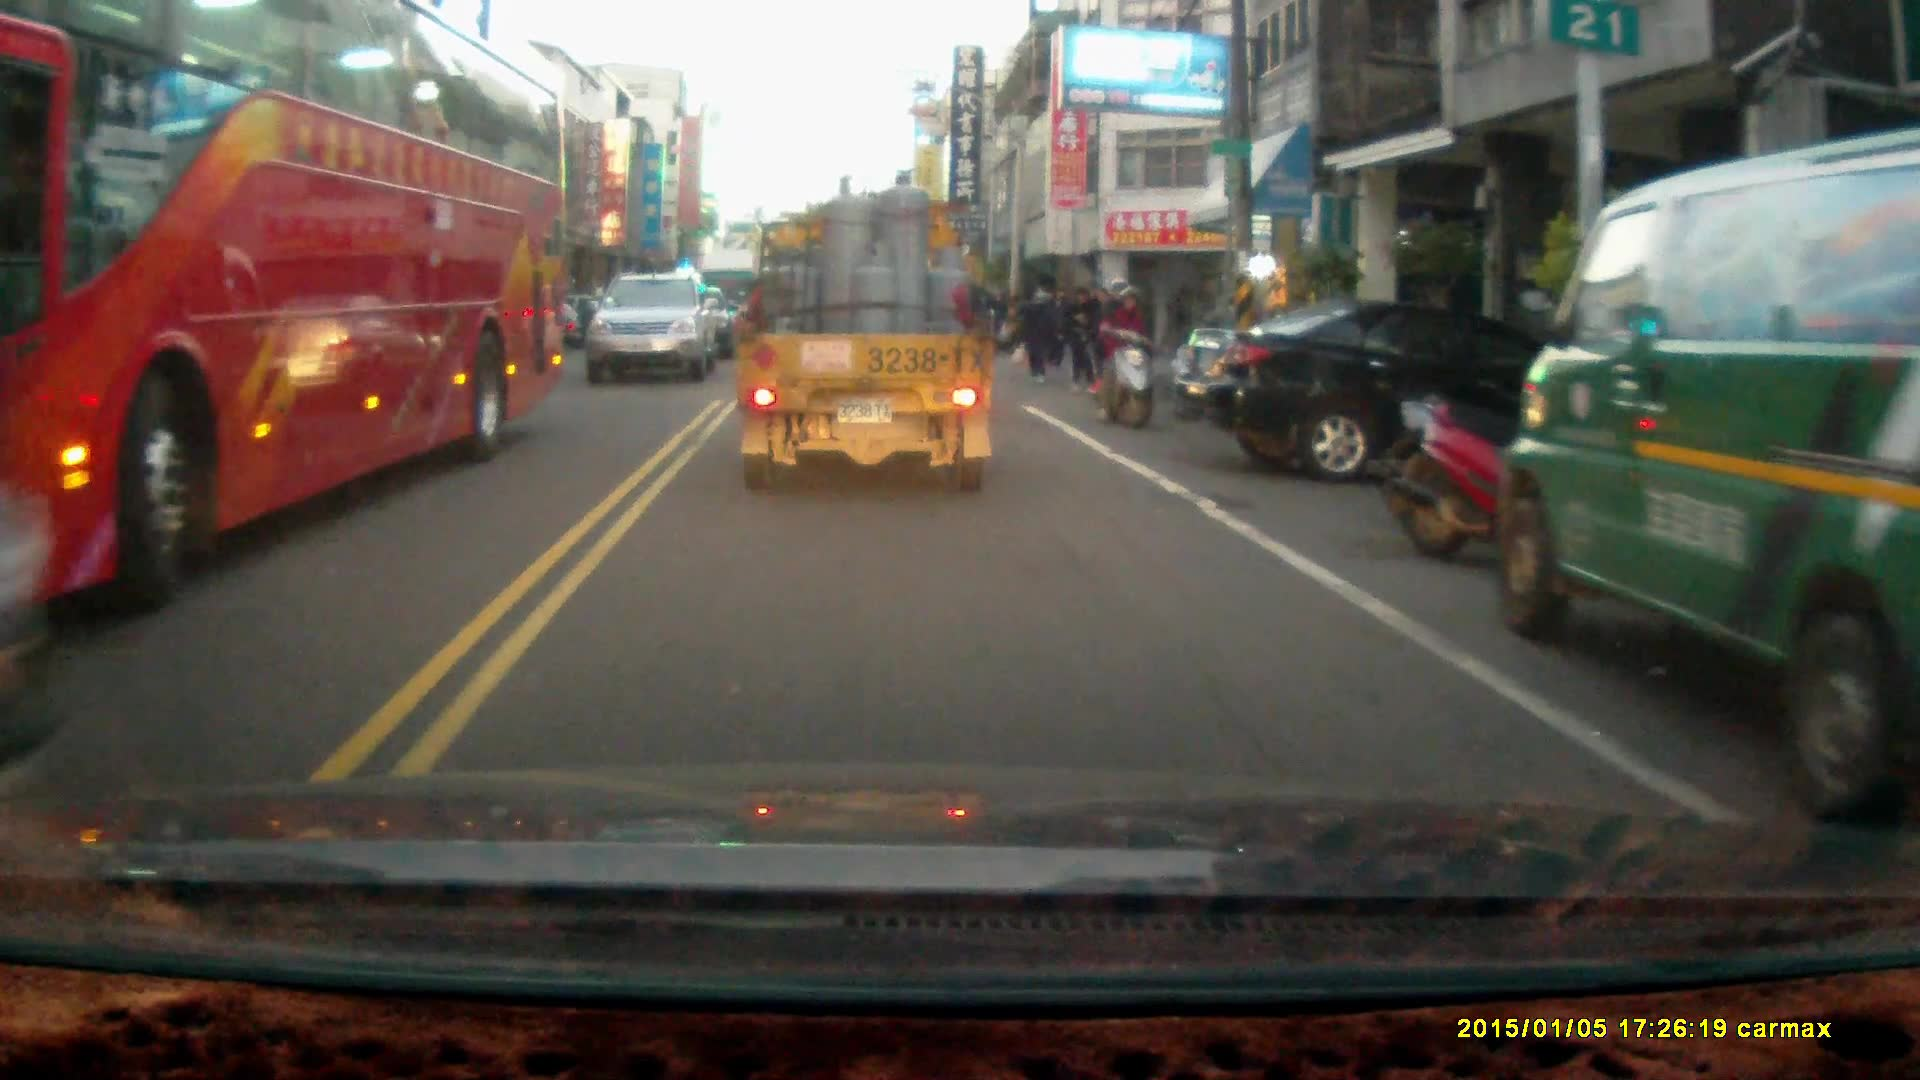pedestrian: (1061, 283, 1101, 394), (1020, 283, 1057, 376)
rider: (1091, 273, 1156, 430)
vehicle: (1, 7, 577, 644), (1494, 129, 1920, 826), (733, 165, 1001, 496), (1173, 301, 1613, 483), (589, 272, 720, 384)
